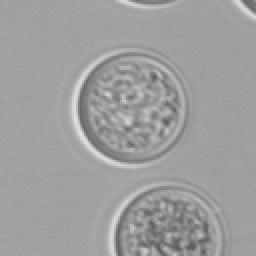picoshell: (70, 48, 188, 168), (108, 182, 224, 254), (116, 0, 178, 8), (232, 0, 254, 20)
